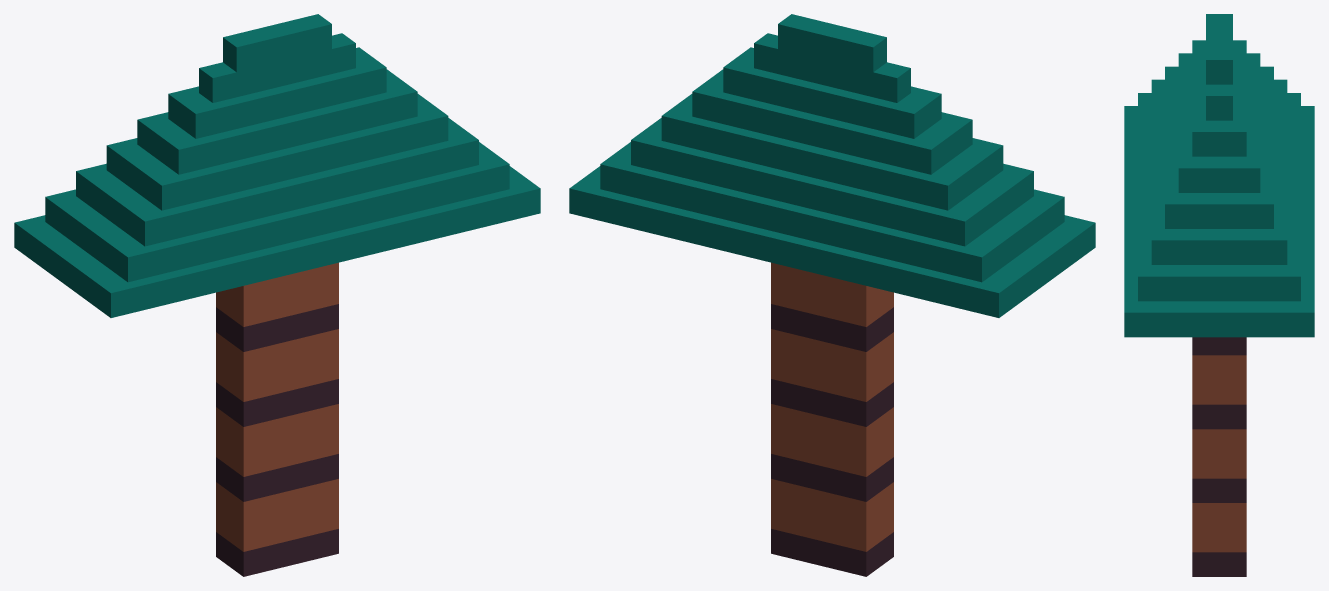
The model's file is tree.dae.
The picture shows the model from 3 angles, left to right: view 1: azimuth 30°, elevation 25°; view 2: azimuth 150°, elevation 25°; view 3: azimuth 270°, elevation 25°; orthographic projection.
Parts seen in each view (by area): view 1: generated; view 2: generated; view 3: generated.
Boxes of the visible parts, left/top/right/bottom form: generated: left=14, top=14, right=540, bottom=576; generated: left=569, top=14, right=1095, bottom=576; generated: left=1124, top=14, right=1314, bottom=576.
Size of the model in its own units: 18 by 21 by 7.
